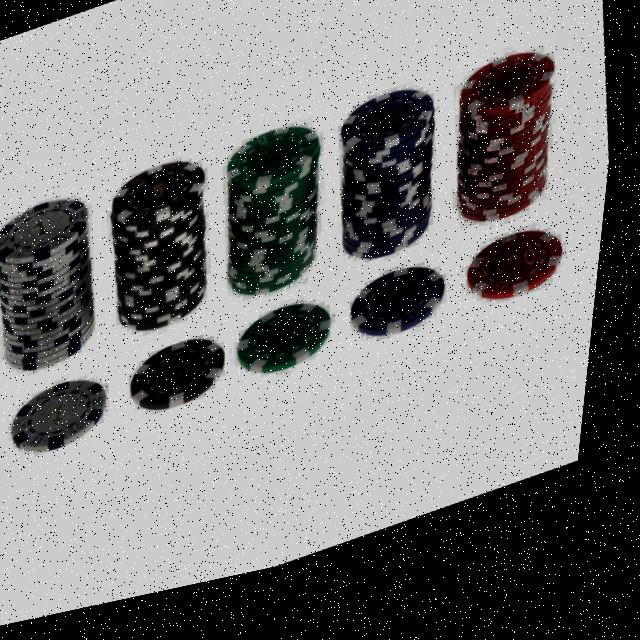Chip: (322, 87, 460, 297), (441, 57, 580, 264), (98, 151, 236, 358), (0, 180, 131, 397), (213, 119, 349, 327), (462, 236, 586, 343), (125, 330, 244, 438), (349, 268, 466, 374), (14, 368, 127, 474), (236, 301, 350, 406)
